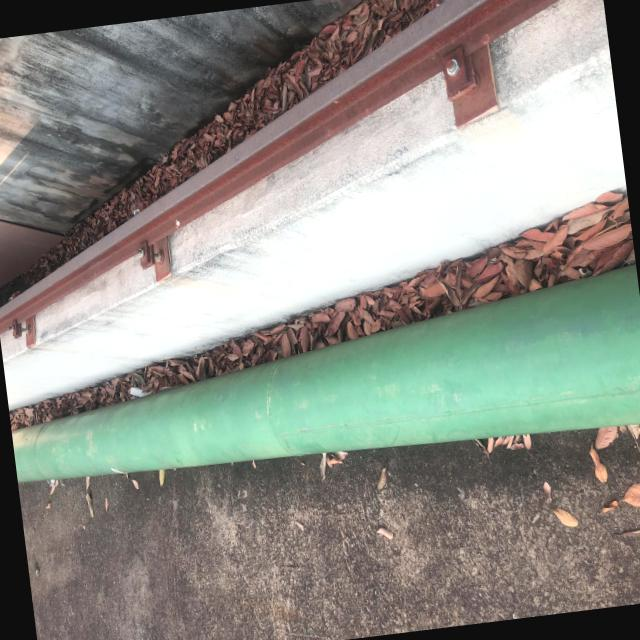gas: (0, 259, 640, 507)
